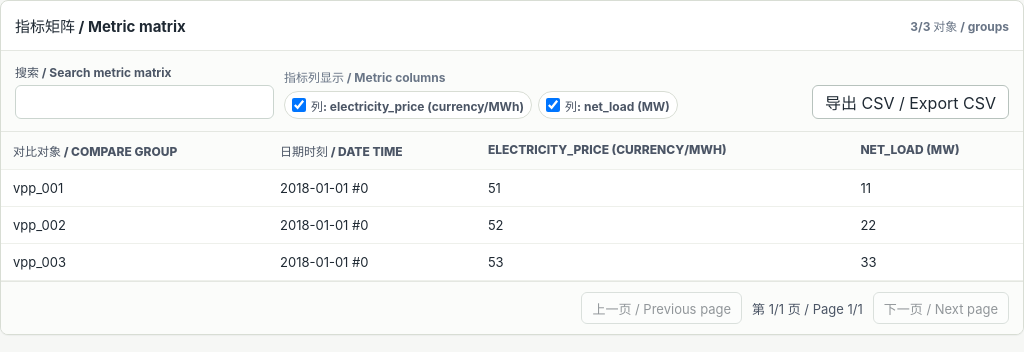
Test case: CompareMetricMatrix › lets users hide selected metric columns without hiding compare groups
Expected: the column heading "net_load (MW)" is shown, [848,132,1023,170]
Expected: the row "vpp_001 2018-01-01 #0 51 11" is shown, [1,170,1023,206]
Click the checkbox named "显示 net_load 列 / Show net_load column" at (553, 105), box [546,98,560,112]
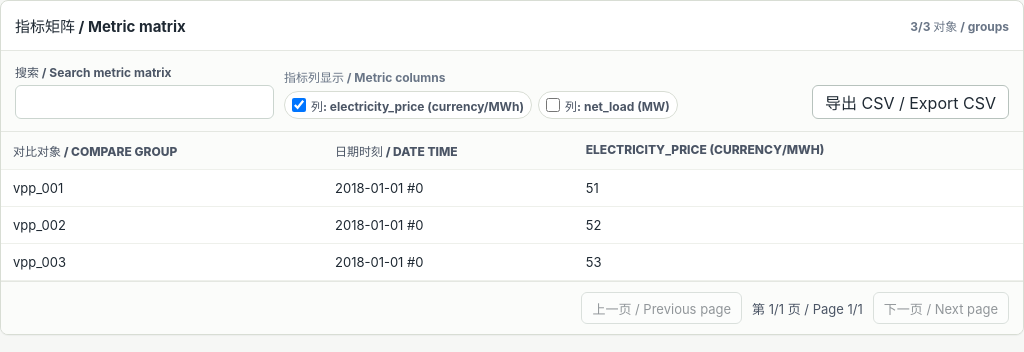
Expected: the row "vpp_001 2018-01-01 #0 51" is shown, [1,170,1023,206]
Expected: the row "vpp_001 2018-01-01 #0 51 11" is gone
